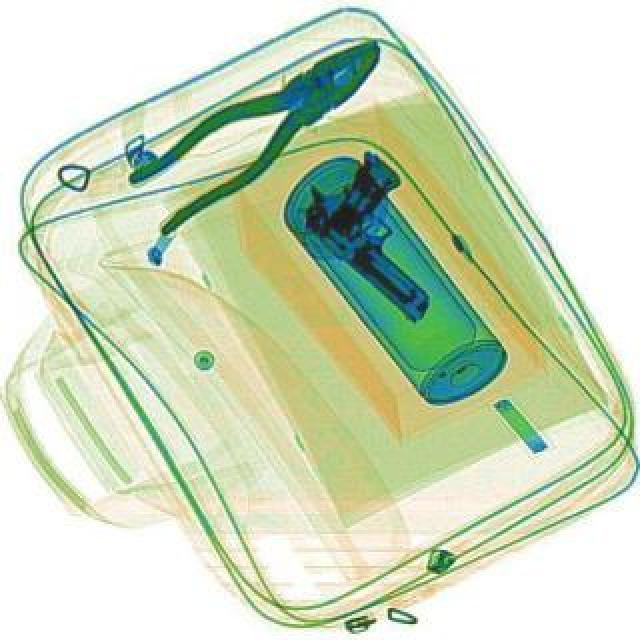gun: (286, 132, 486, 324)
wrench: (118, 6, 406, 240)
